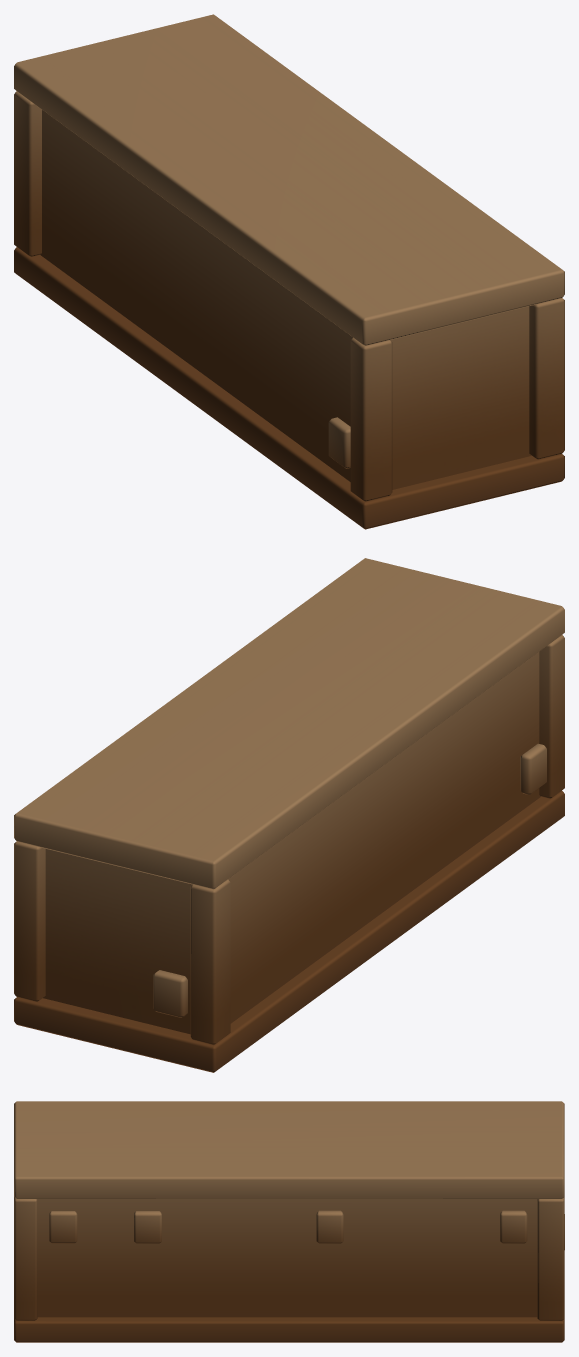
The model's file is SM_Clay_Body_05.fbx.
3 renders of one model, top to bottom at view 1: azimuth 30°, elevation 25°; view 2: azimuth 150°, elevation 25°; view 3: azimuth 270°, elevation 25°, orthographic. The views are drawn at different scales.
Parts seen in each view (by area): view 1: SM_Clay_Body_05; view 2: SM_Clay_Body_05; view 3: SM_Clay_Body_05.
Boxes of the visible parts, x1,y1,x2,y2 form: SM_Clay_Body_05: [14, 14, 564, 529]; SM_Clay_Body_05: [14, 558, 564, 1072]; SM_Clay_Body_05: [14, 1101, 564, 1342].
Bounding box in the file's own units: 1 × 0.9979 × 3.
